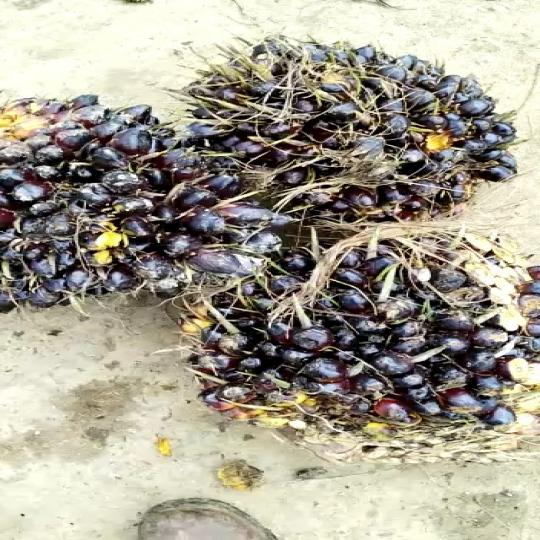mentah: (167, 205, 540, 449), (160, 34, 536, 215), (0, 82, 282, 308)
